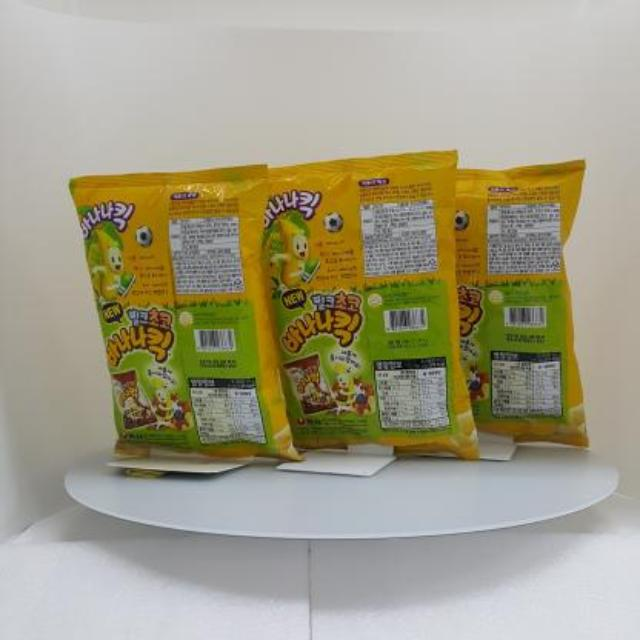snack_bag: (60, 137, 600, 489)
